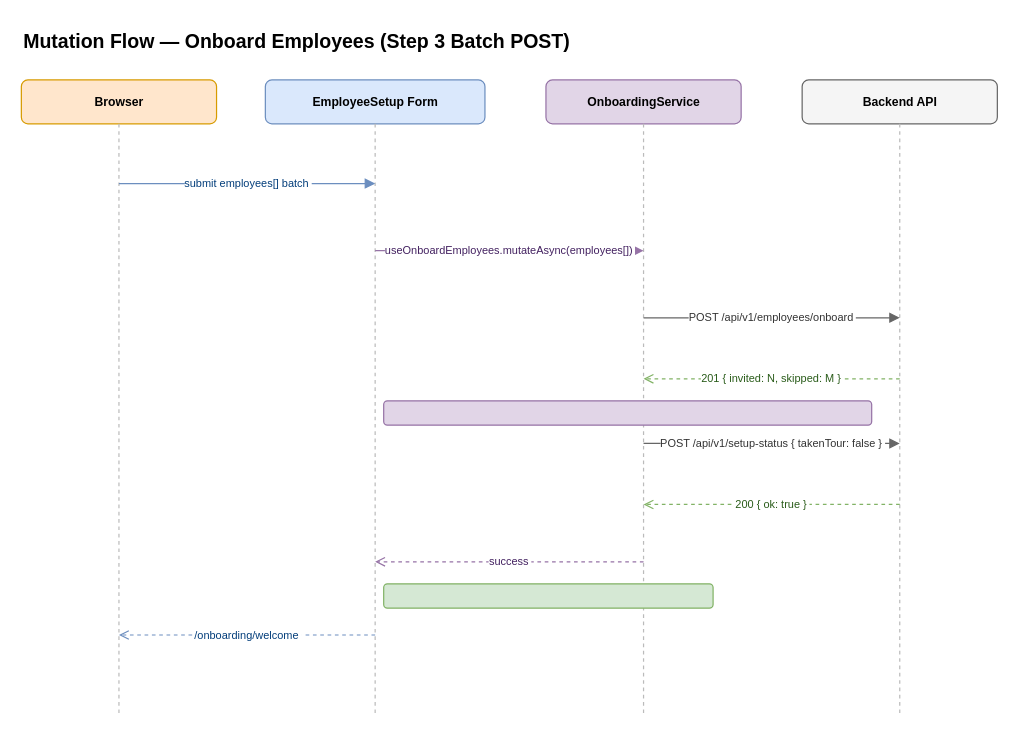
This 1019x737 diagram has some shape labels left out. Here are the shapes that lost their labels. From the top down, the box of each, then its label:
(382, 400, 872, 425): [self] onSuccess: useSetSetupStatus.mutateAsync({ takenTour: false })
(382, 583, 713, 608): [self] router.push('/onboarding/welcome')
